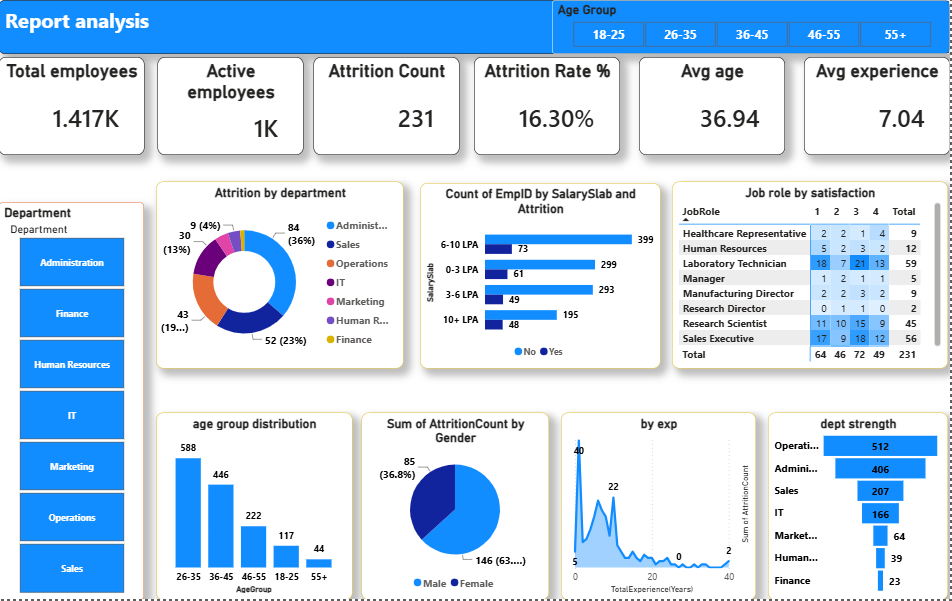

Layout of this report page (visuals, bound fields, positions):
{"tool":"powerbi","page":{"name":"Page 1","canvas":[1280,800],"ordinal":0},"visuals":[{"type":"textbox","box":[10,0,1270,72],"z":0},{"type":"cardVisual","title":"Total employees","fields":{"Data":["CountNonNull(HR_Analytics-4.EmpID)"]},"box":[9.4,75.6,194.6,130.4],"z":1000},{"type":"cardVisual","title":"Active employees","fields":{"Data":["Sum(HR_Analytics-4.EmployeeCount)"]},"box":[221.1,75.6,194.6,130.4],"z":2000},{"type":"cardVisual","title":"Attrition Count","fields":{"Data":["Sum(HR_Analytics-4.AttritionCount)"]},"box":[430.9,75.6,194.6,130.4],"z":3000},{"type":"cardVisual","title":"Attrition Rate %","fields":{"Data":["HR_Analytics-4.Attrition Rate %"]},"box":[644.4,75.6,194.6,130.4],"z":4000},{"type":"cardVisual","title":"Avg age","fields":{"Data":["Avg(HR_Analytics-4.Age)"]},"box":[863.6,75.6,194.6,130.4],"z":5000},{"type":"cardVisual","title":"Avg experience","fields":{"Data":["Avg(HR_Analytics-4.YearsatCompany)"]},"box":[1084.7,75.6,194.6,130.4],"z":6000},{"type":"donutChart","title":"Attrition by department","fields":{"Category":["HR_Analytics-4.Department"],"Y":["Sum(HR_Analytics-4.AttritionCount)"]},"box":[220.8,241.5,330.2,249.1],"z":7000},{"type":"clusteredBarChart","fields":{"Category":["HR_Analytics-4.SalarySlab"],"Y":["CountNonNull(HR_Analytics-4.EmpID)"],"Series":["HR_Analytics-4.Attrition"]},"box":[571.8,243.4,320.8,247.2],"z":8000},{"type":"pivotTable","title":"Job role by satisfaction","fields":{"Rows":["HR_Analytics-4.JobRole"],"Values":["Sum(HR_Analytics-4.AttritionCount)"],"Columns":["HR_Analytics-4.JobSatisfaction"]},"box":[907.6,241.5,368,249.1],"z":9000},{"type":"columnChart","title":"age group distribution","fields":{"Category":["HR_Analytics-4.AgeGroup"],"Y":["Sum(HR_Analytics-4.EmployeeCount)"]},"box":[220,550,262,250],"z":9001},{"type":"pieChart","fields":{"Category":["HR_Analytics-4.Gender"],"Y":["Sum(HR_Analytics-4.AttritionCount)"]},"box":[494,550,250,250],"z":9002},{"type":"areaChart","title":"by exp","fields":{"Category":["HR_Analytics-4.TotalExperience(Years)"],"Y2":["Sum(HR_Analytics-4.AttritionCount)"]},"box":[760,550,260,250],"z":9003},{"type":"funnel","title":"dept strength","fields":{"Category":["HR_Analytics-4.Department"],"Y":["CountNonNull(HR_Analytics-4.EmpID)"]},"box":[1036,550,240,250],"z":9004},{"type":"slicer","title":"Department","fields":{"Values":["HR_Analytics-4.Department"]},"box":[10,270,194,530],"z":9005},{"type":"slicer","title":"Age Group","fields":{"Values":["HR_Analytics-4.AgeGroup"]},"box":[748,0,532,72],"z":9006}]}

Visuals, with their boxes in screenshot pixels (x1, y1, x2, y2), scaled from the page's 1280x800 canvas onto the 952x601 screenshot:
textbox: rect(7, 0, 951, 54)
"Total employees" cardVisual: rect(7, 57, 152, 155)
"Active employees" cardVisual: rect(164, 57, 309, 155)
"Attrition Count" cardVisual: rect(320, 57, 465, 155)
"Attrition Rate %" cardVisual: rect(479, 57, 624, 155)
"Avg age" cardVisual: rect(642, 57, 787, 155)
"Avg experience" cardVisual: rect(807, 57, 951, 155)
"Attrition by department" donutChart: rect(164, 181, 410, 369)
clusteredBarChart - HR_Analytics-4.SalarySlab x CountNonNull(HR_Analytics-4.EmpID): rect(425, 183, 664, 369)
"Job role by satisfaction" pivotTable: rect(675, 181, 949, 369)
"age group distribution" columnChart: rect(164, 413, 358, 600)
pieChart - HR_Analytics-4.Gender x Sum(HR_Analytics-4.AttritionCount): rect(367, 413, 553, 600)
"by exp" areaChart: rect(565, 413, 759, 600)
"dept strength" funnel: rect(771, 413, 949, 600)
"Department" slicer: rect(7, 203, 152, 600)
"Age Group" slicer: rect(556, 0, 951, 54)
